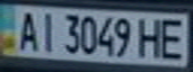0: (78, 12, 96, 55)
3: (57, 11, 81, 54)
4: (97, 14, 118, 56)
9: (112, 14, 136, 57)
A: (12, 8, 42, 52)
E: (157, 15, 190, 61)
H: (136, 15, 166, 58)
I: (36, 9, 60, 53)
